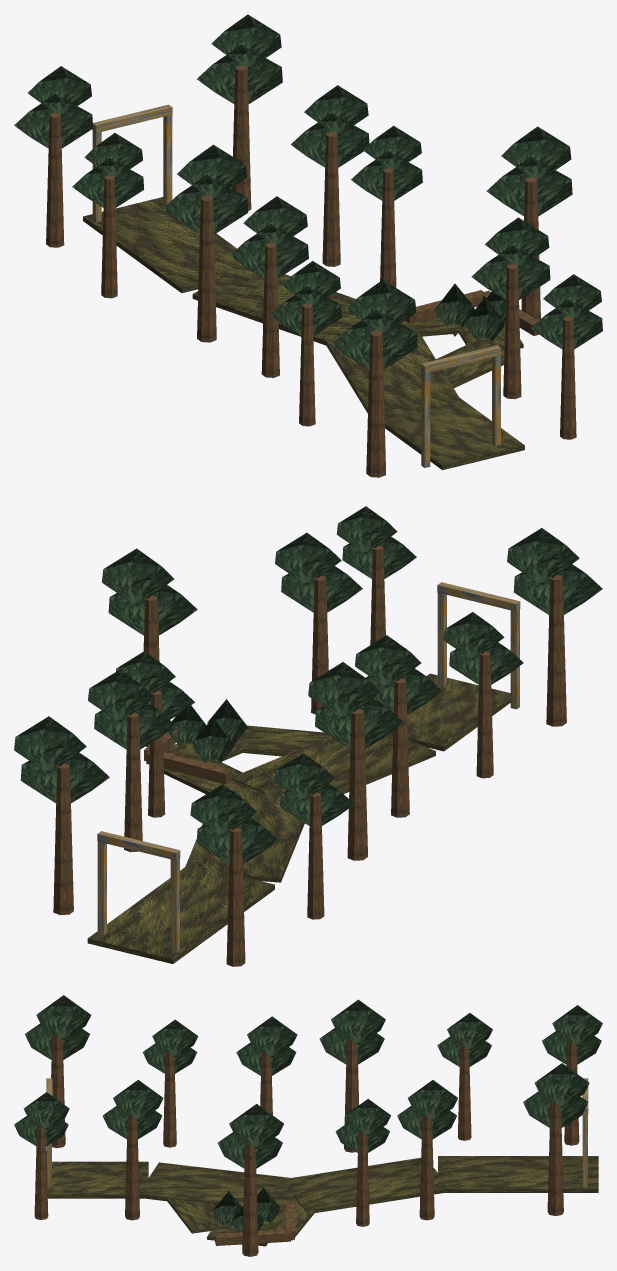
Rendered from ENV_JUNGLE_PATH_001.obj.
The picture shows the model from 3 angles, top to bottom: view 1: azimuth 30°, elevation 25°; view 2: azimuth 150°, elevation 25°; view 3: azimuth 270°, elevation 25°; orthographic projection. The views are drawn at different scales.
Parts seen in each view (by area): view 1: PrimaryRoute_1, PrimaryRoute_4, PrimaryRoute_3, PrimaryRoute_2, Tree_5_Trunk, Tree_11_Trunk, Tree_5_CrownLow, Tree_11_CrownLow, Tree_8_CrownLow, Tree_2_CrownLow, Tree_5_CrownHigh, Tree_8_CrownHigh (+38 smaller); view 2: PrimaryRoute_1, PrimaryRoute_3, PrimaryRoute_4, PrimaryRoute_2, Tree_11_Trunk, Tree_2_Trunk, Tree_5_Trunk, Tree_2_CrownHigh, Tree_11_CrownHigh, Tree_5_CrownHigh, Tree_8_CrownHigh, Tree_11_CrownLow (+40 smaller); view 3: PrimaryRoute_1, PrimaryRoute_2, PrimaryRoute_3, PrimaryRoute_4, Tree_8_Trunk, Tree_2_Trunk, Tree_5_CrownHigh, Tree_2_CrownHigh, Tree_11_CrownHigh, Tree_8_CrownHigh, Tree_10_Trunk, Tree_4_Trunk (+35 smaller).
Part boxes in pixels (x1=…): PrimaryRoute_1: x1=83, y1=197, x2=244, y2=293; PrimaryRoute_4: x1=384, y1=398, x2=524, y2=470; PrimaryRoute_3: x1=326, y1=324, x2=460, y2=413; PrimaryRoute_2: x1=192, y1=267, x2=360, y2=345; Tree_5_Trunk: x1=197, y1=195, x2=216, y2=342; Tree_11_Trunk: x1=366, y1=330, x2=385, y2=477; Tree_5_CrownLow: x1=162, y1=175, x2=248, y2=234; Tree_11_CrownLow: x1=331, y1=310, x2=417, y2=370; Tree_8_CrownLow: x1=486, y1=157, x2=572, y2=217; Tree_2_CrownLow: x1=197, y1=45, x2=282, y2=104; Tree_5_CrownHigh: x1=177, y1=144, x2=246, y2=200; Tree_8_CrownHigh: x1=501, y1=126, x2=571, y2=182; PrimaryRoute_1: x1=87, y1=864, x2=274, y2=963; PrimaryRoute_3: x1=231, y1=732, x2=435, y2=798; PrimaryRoute_4: x1=392, y1=673, x2=510, y2=751; PrimaryRoute_2: x1=185, y1=790, x2=304, y2=882; Tree_11_Trunk: x1=546, y1=575, x2=566, y2=726; Tree_2_Trunk: x1=53, y1=763, x2=73, y2=915; Tree_5_Trunk: x1=347, y1=709, x2=367, y2=860; Tree_2_CrownHigh: x1=14, y1=716, x2=86, y2=773; Tree_11_CrownHigh: x1=507, y1=528, x2=579, y2=585; Tree_5_CrownHigh: x1=308, y1=662, x2=380, y2=719; Tree_8_CrownHigh: x1=102, y1=548, x2=174, y2=606; Tree_11_CrownLow: x1=513, y1=553, x2=602, y2=615; PrimaryRoute_1: x1=438, y1=1156, x2=598, y2=1192; PrimaryRoute_2: x1=280, y1=1157, x2=446, y2=1212; PrimaryRoute_3: x1=139, y1=1162, x2=297, y2=1211; PrimaryRoute_4: x1=47, y1=1161, x2=148, y2=1198; Tree_8_Trunk: x1=242, y1=1140, x2=258, y2=1256; Tree_2_Trunk: x1=547, y1=1099, x2=563, y2=1215; Tree_5_CrownHigh: x1=331, y1=999, x2=385, y2=1044; Tree_2_CrownHigh: x1=534, y1=1063, x2=589, y2=1108; Tree_11_CrownHigh: x1=36, y1=995, x2=91, y2=1040; Tree_8_CrownHigh: x1=229, y1=1104, x2=283, y2=1149; Tree_10_Trunk: x1=125, y1=1113, x2=139, y2=1220; Tree_4_Trunk: x1=419, y1=1113, x2=434, y2=1220.
Bounding box in the file's own units: 6.38 × 3.27 × 10.99.
Materials: 4 (4 with a texture image).
